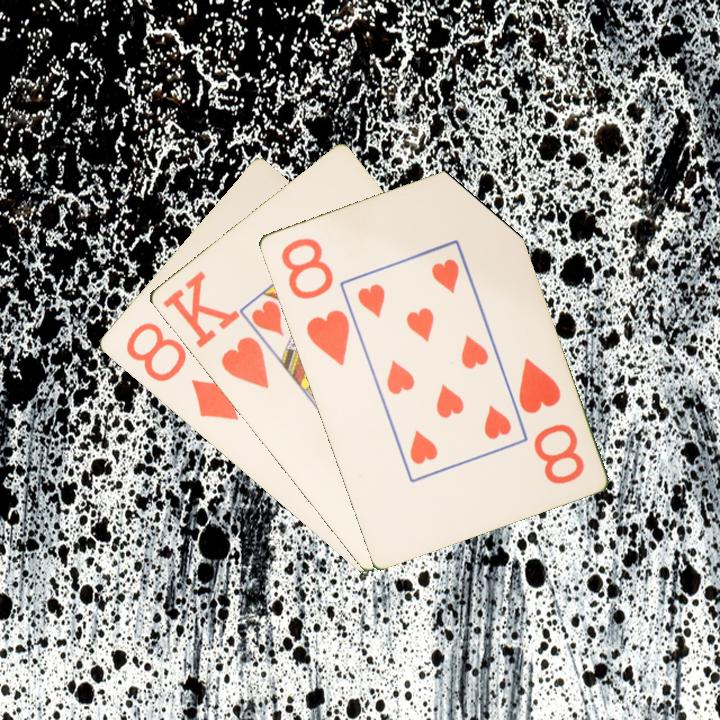8d: (121, 319, 242, 424)
8h: (276, 234, 352, 369), (514, 354, 587, 487)
Kh: (158, 267, 272, 392)
